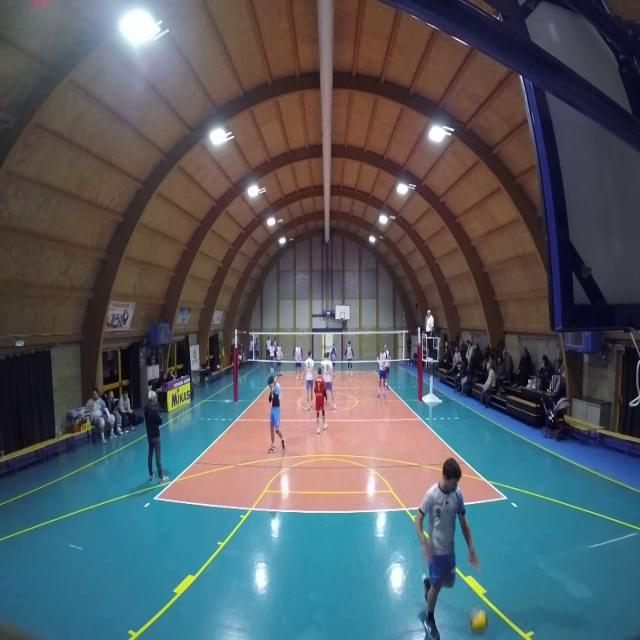Volleyball: (469, 605, 489, 637)
